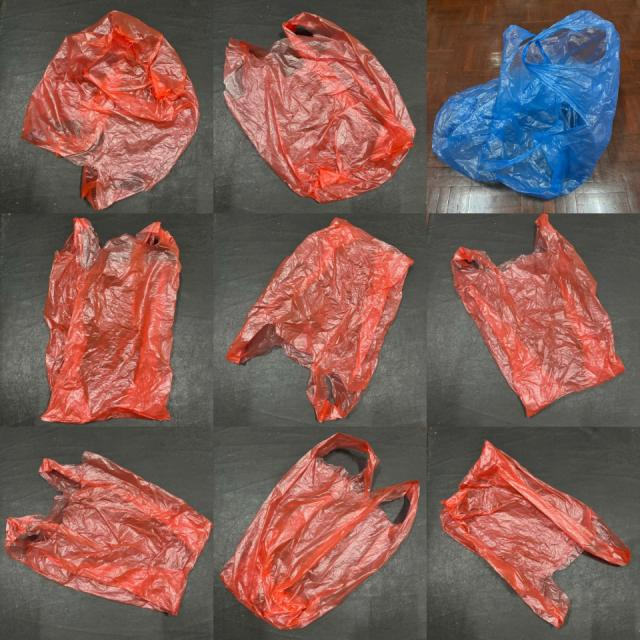Single-layer Plastic: (221, 432, 419, 629), (226, 218, 414, 421), (224, 12, 415, 202), (432, 10, 620, 199), (21, 11, 199, 210), (441, 441, 630, 628), (451, 214, 624, 416), (5, 451, 212, 614), (41, 218, 181, 422)
